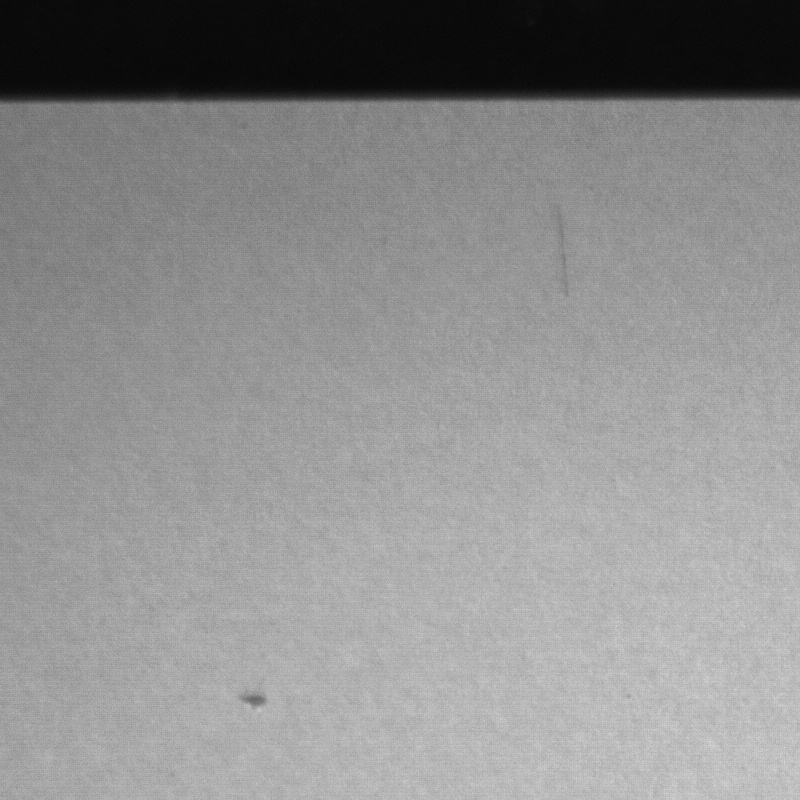defect: (552, 206, 573, 300), (236, 687, 275, 710)
